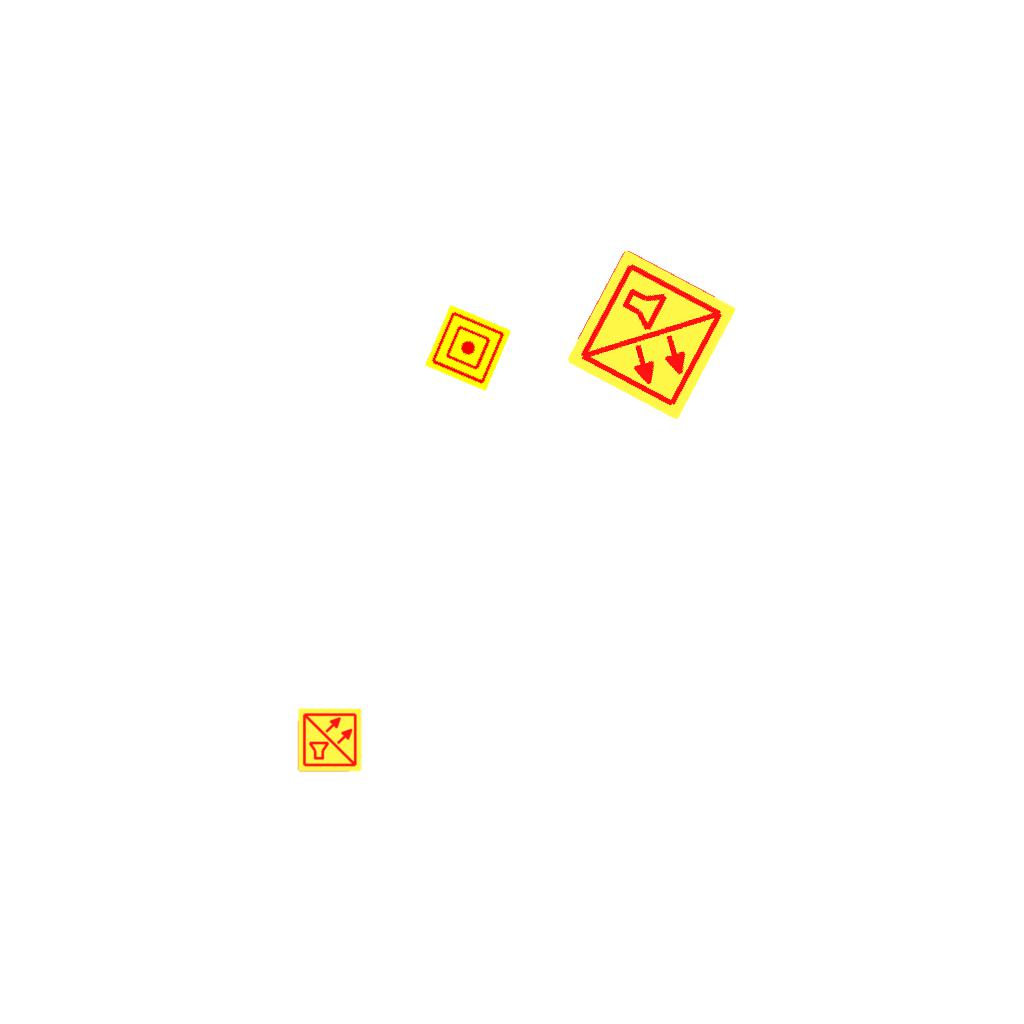NAM-Nichtautomatischer_Melder: (424, 304, 512, 392)
OKW_Multisensormelder_(Kombination_optischer_Rauch-Kahlenmonoxid_Waerme-Melder): (561, 245, 741, 425), (297, 707, 363, 773)
